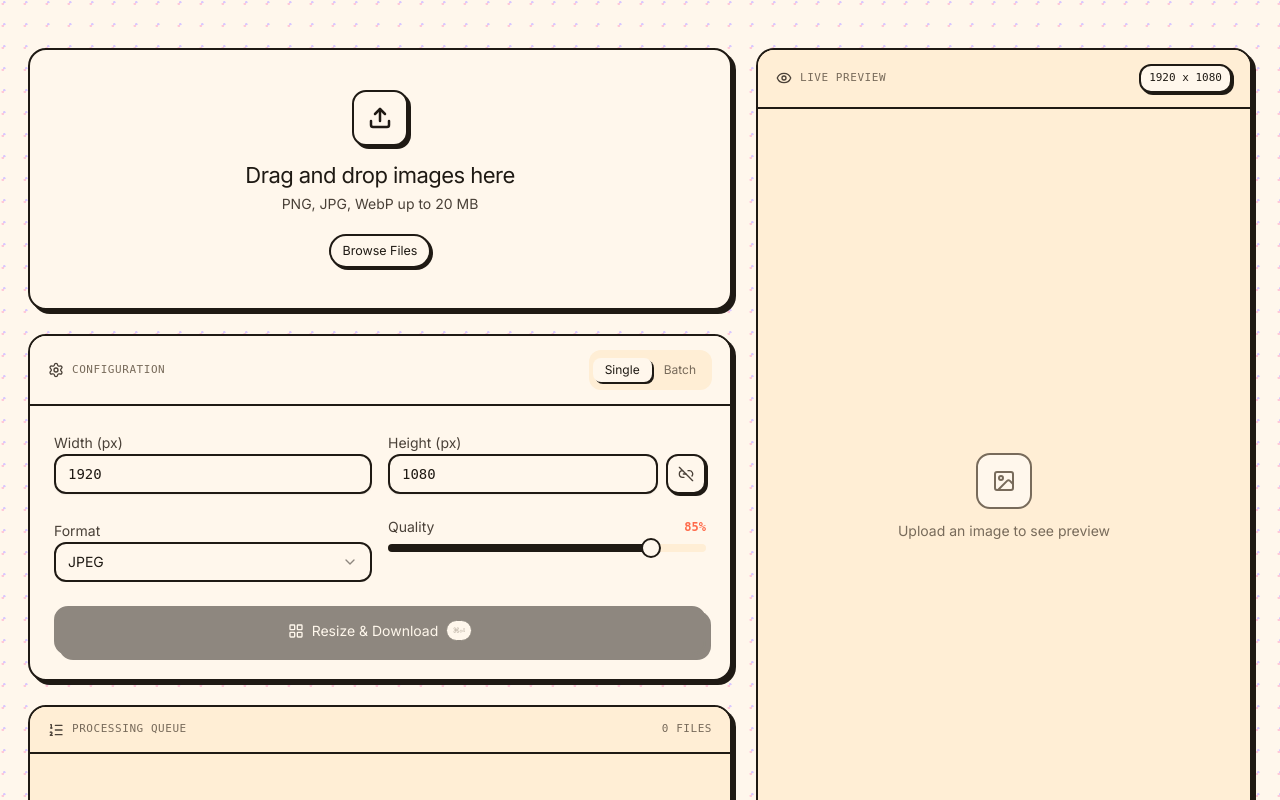
it: ImageResizerRoute › changes format selection
This screenshot has width=1280, height=800.
Step 1. Press the mouse on the dropdown → point(86, 562), box [54,542,372,582]
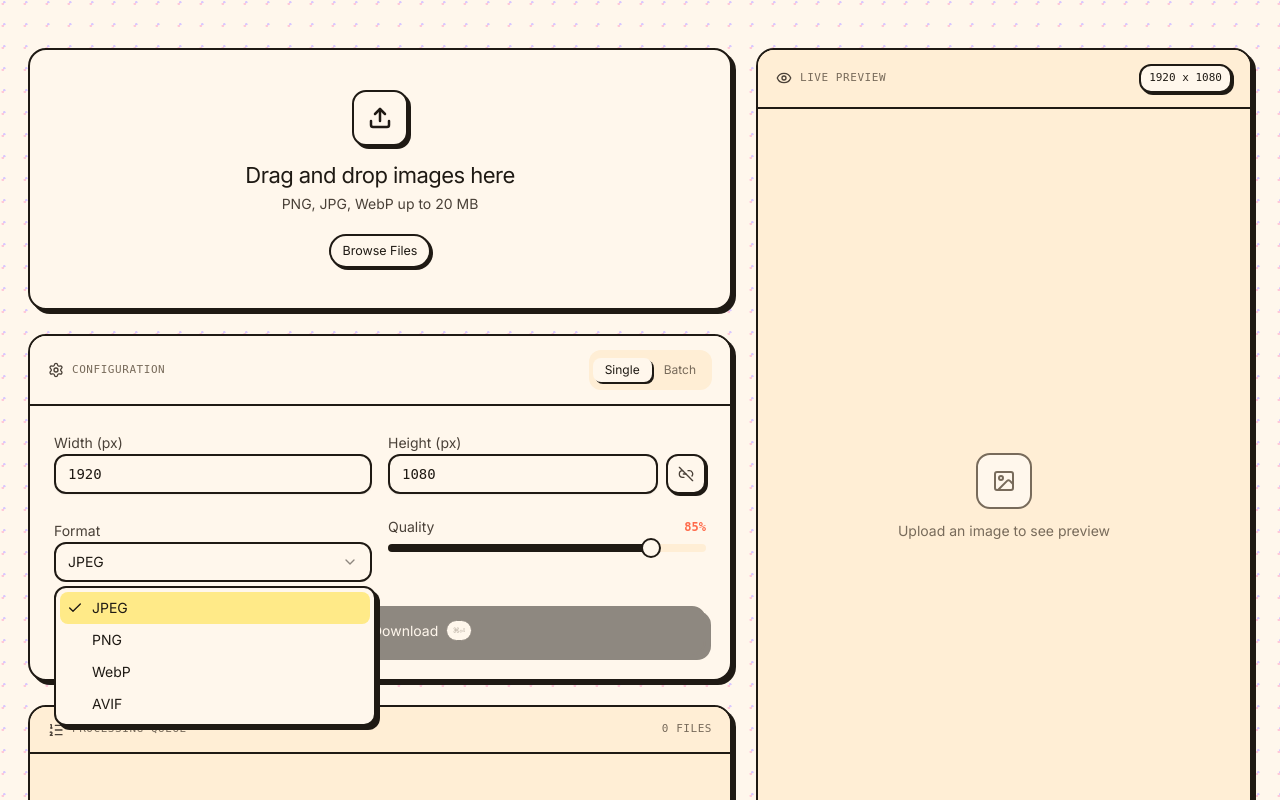
Step 2. Click the option "PNG" → point(107, 640), box [92,631,122,648]
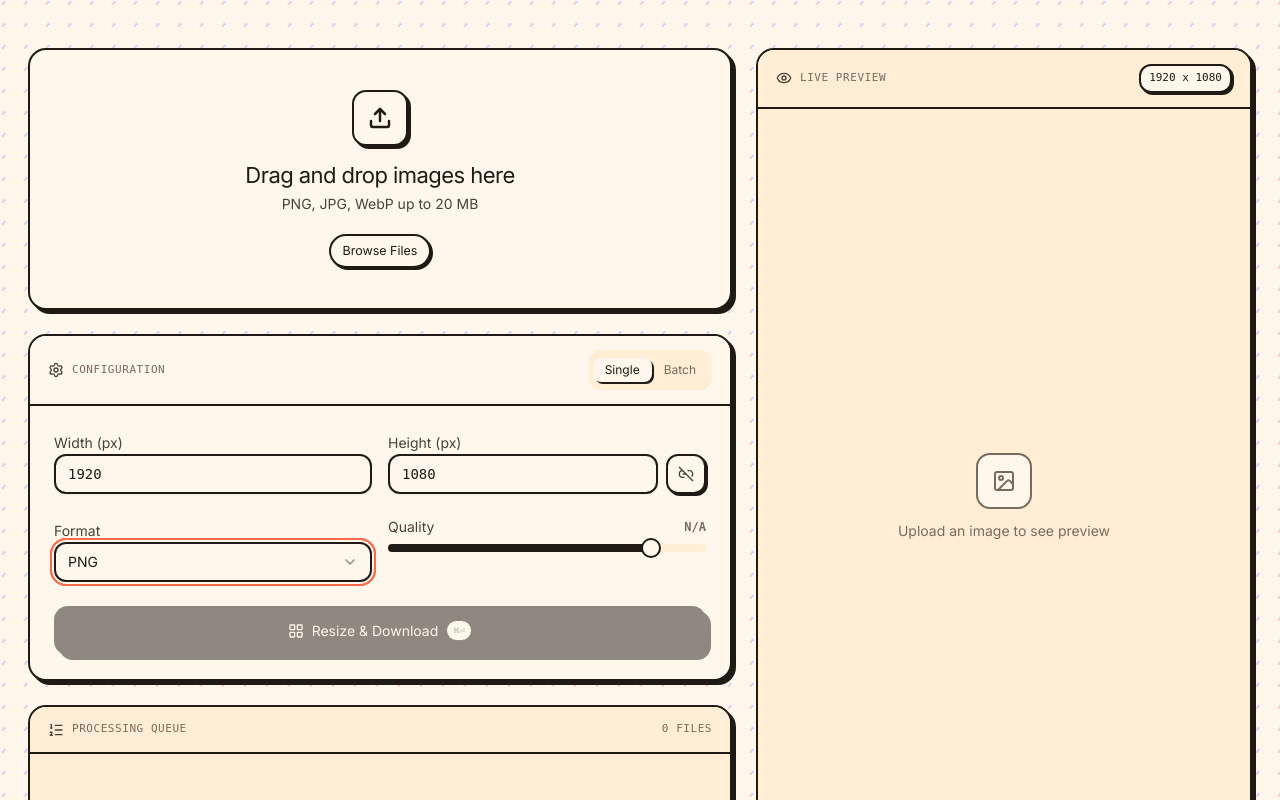
Expected: the dropdown reads "PNG", [54,542,372,582]
